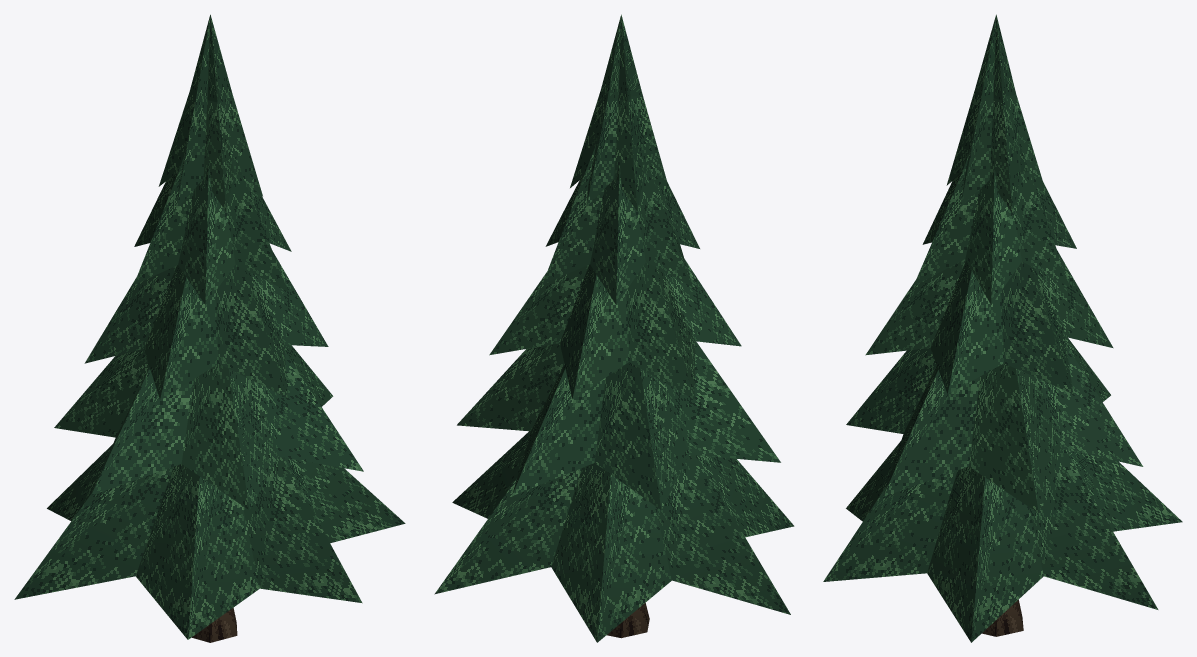
Rendered from tree_pine_a.glb.
The picture shows the model from 3 angles, left to right: view 1: azimuth 30°, elevation 25°; view 2: azimuth 150°, elevation 25°; view 3: azimuth 270°, elevation 25°; orthographic projection.
Visible parts, largest first — view 1: tree_pine_a; view 2: tree_pine_a; view 3: tree_pine_a.
Boxes of the visible parts, left/top/right/bottom form: tree_pine_a: left=14, top=14, right=405, bottom=642; tree_pine_a: left=434, top=14, right=794, bottom=642; tree_pine_a: left=823, top=14, right=1182, bottom=642.
Size of the model in its own units: 4.02 by 6.45 by 3.45.
Materials: 2 (2 with a texture image).
